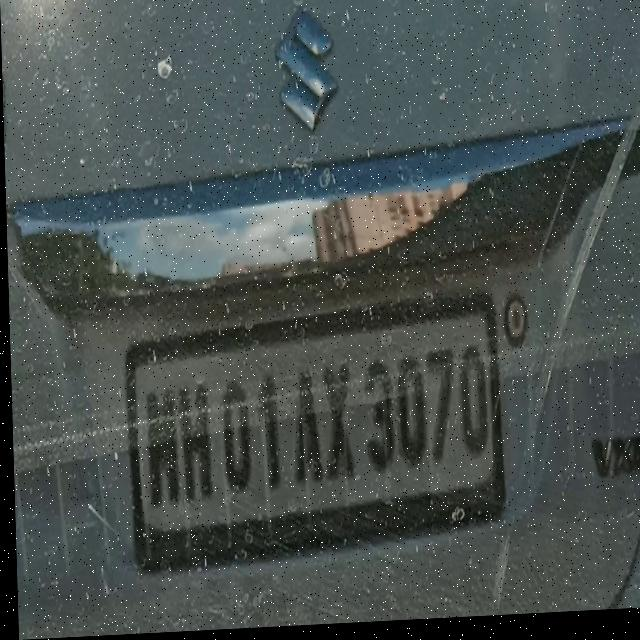plate: (121, 293, 506, 573)
